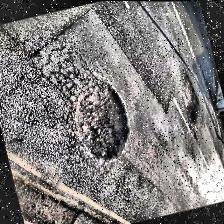pothole: (66, 76, 138, 166), (176, 72, 204, 122)
